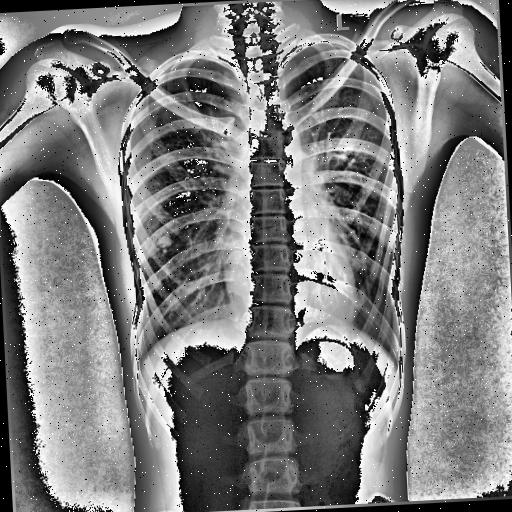13- Pulmonary fibrosis: (138, 231, 174, 257)
8- Nodule-Mass: (156, 237, 174, 248), (158, 234, 172, 248)
